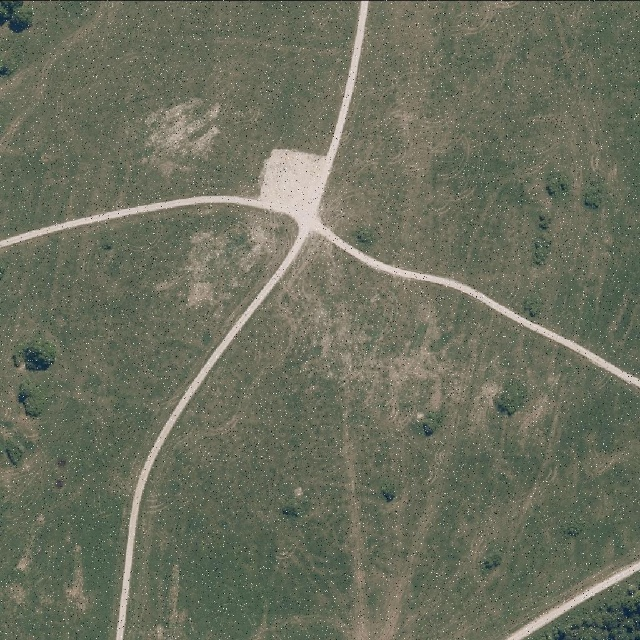vegetation: (534, 582, 640, 640), (10, 341, 59, 416), (1, 2, 32, 29)
